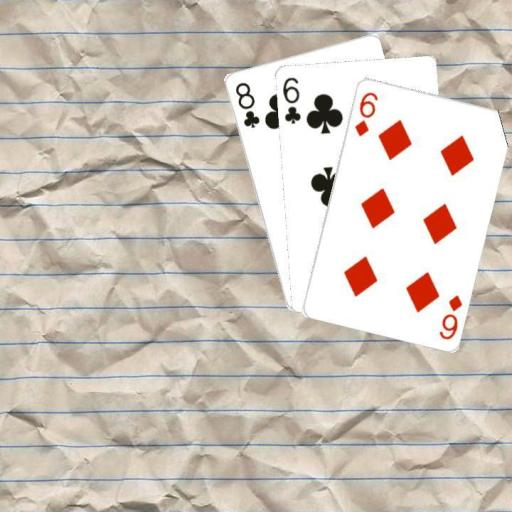card-corner: (232, 79, 261, 129), (351, 88, 379, 138), (436, 292, 464, 340), (279, 73, 302, 125)
